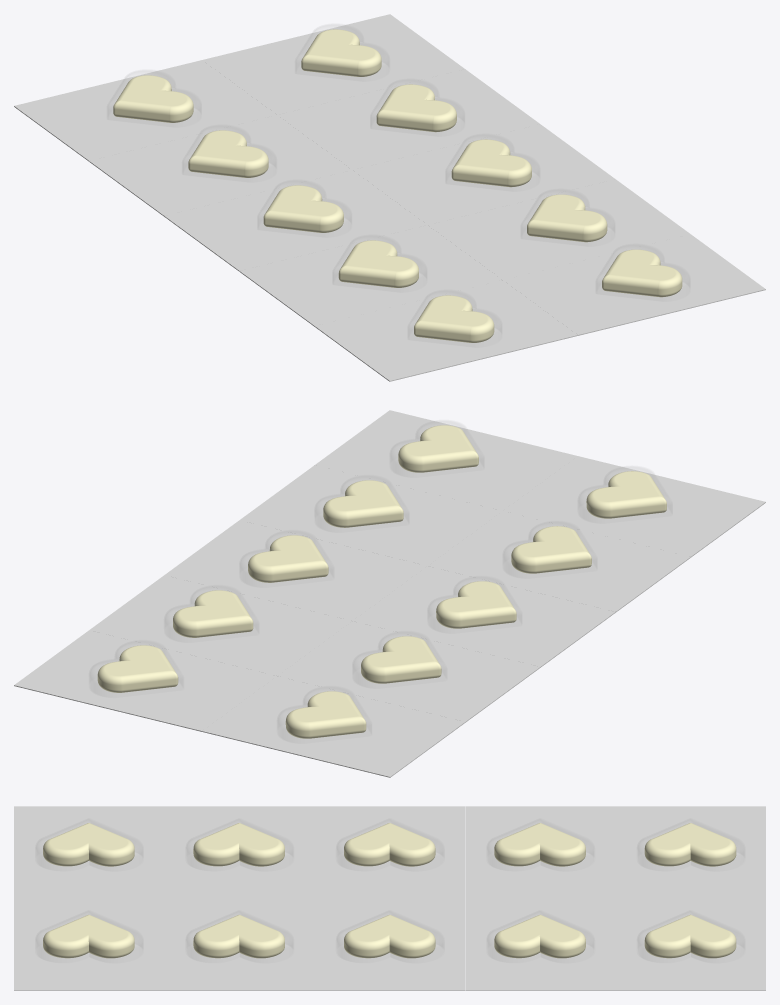
Rendered from Heart_Pill_2x5_Beige.glb.
The picture shows the model from 3 angles, top to bottom: view 1: azimuth 30°, elevation 25°; view 2: azimuth 150°, elevation 25°; view 3: azimuth 270°, elevation 25°; orthographic projection.
Parts seen in each view (by area): view 1: Heart_Pill_Base_2x5, Heart_Pill_2x5, Heart_Pill_Shell_2x5, Heart_Pill_Lid_2x5; view 2: Heart_Pill_Base_2x5, Heart_Pill_2x5, Heart_Pill_Shell_2x5, Heart_Pill_Lid_2x5; view 3: Heart_Pill_Base_2x5, Heart_Pill_2x5, Heart_Pill_Lid_2x5, Heart_Pill_Shell_2x5.
Part boxes in pixels (<box>): Heart_Pill_Base_2x5: <box>14,14,765,381</box>; Heart_Pill_2x5: <box>113,29,682,342</box>; Heart_Pill_Shell_2x5: <box>107,24,689,337</box>; Heart_Pill_Lid_2x5: <box>106,44,690,347</box>; Heart_Pill_Base_2x5: <box>14,410,765,777</box>; Heart_Pill_2x5: <box>97,425,666,738</box>; Heart_Pill_Shell_2x5: <box>89,420,672,734</box>; Heart_Pill_Lid_2x5: <box>88,457,672,743</box>; Heart_Pill_Base_2x5: <box>14,806,765,990</box>; Heart_Pill_2x5: <box>43,823,736,958</box>; Heart_Pill_Lid_2x5: <box>35,852,745,963</box>; Heart_Pill_Shell_2x5: <box>36,819,744,949</box>.
Bounding box in the file's own units: 6.8 × 0.336 × 11.77.
